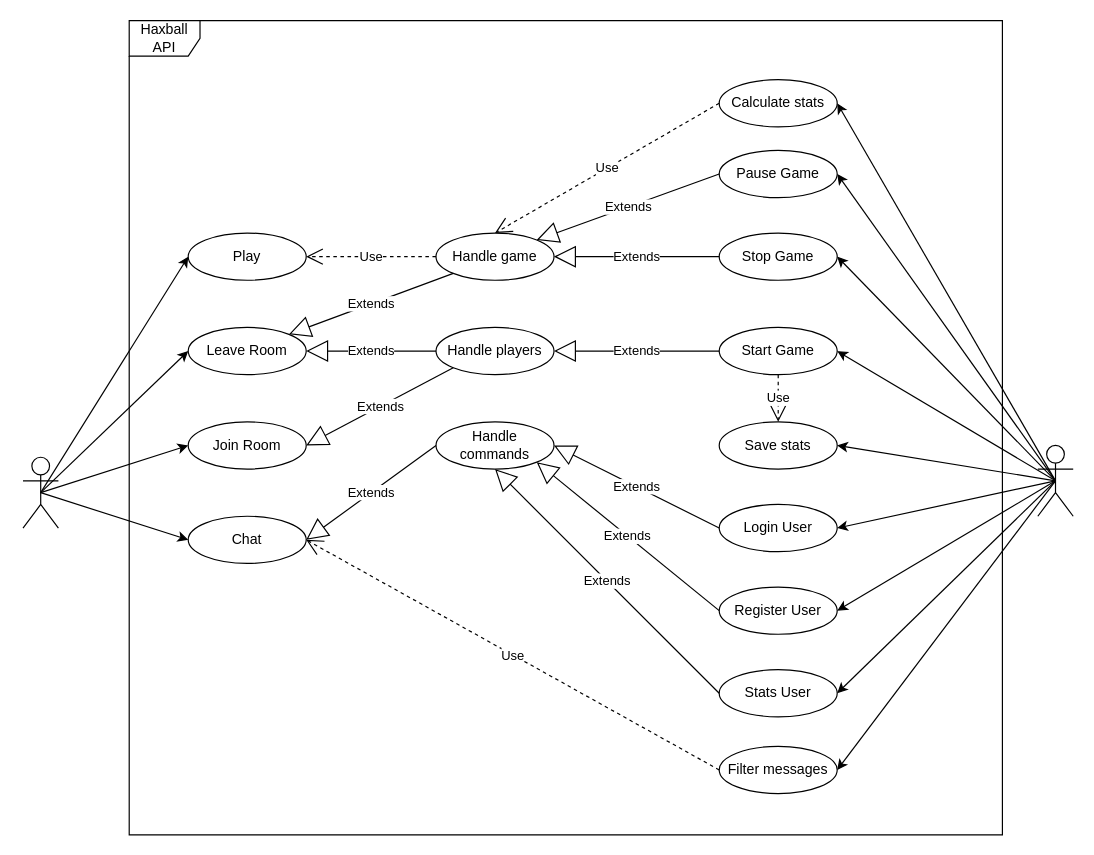
The diagram is 1094 pixels wide and 855 high, and some of its shapes have lost their labels. The shapes that lost their labels are listed below. From the top down, each one's centre as x and y in pixels, then its label:
the point at 40,492: Player
the point at 1055,480: Bot
